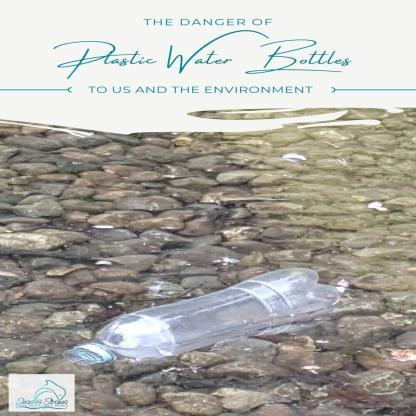bottle: (62, 242, 390, 392)
